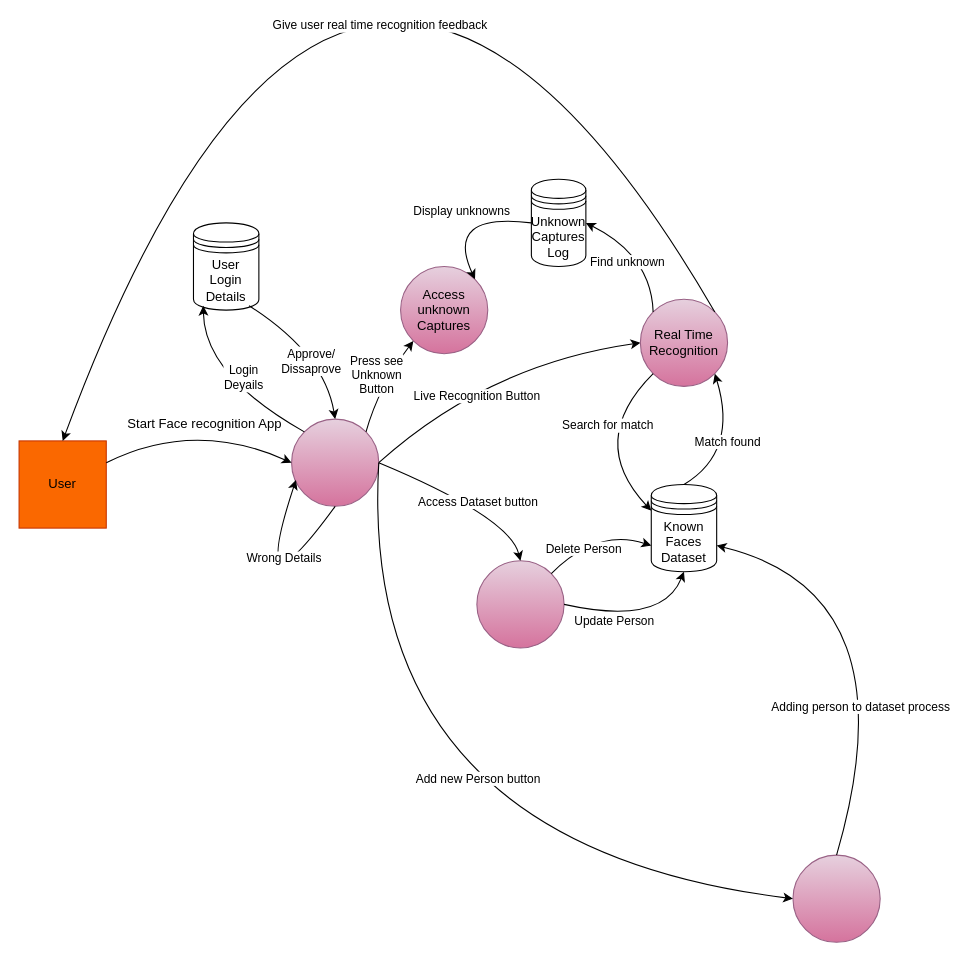
Image size: 969x962. Some labels were removed from this diagram. The shapes that lost their labels are listed below. From the top down, each one's centre as x and y in pixels, then its label:
the point at 334,462: Login
the point at 520,604: Access dataset
the point at 836,898: Add Person to Dataset
